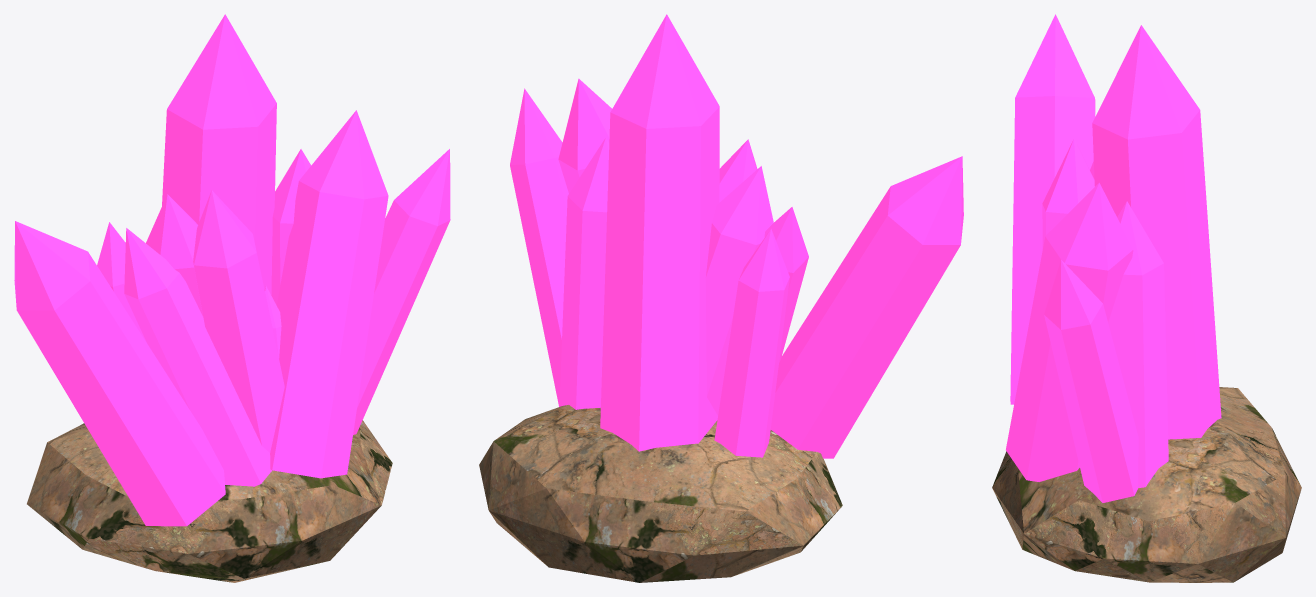
File: Crystal_Pink_S.fbx
The picture shows the model from 3 angles, left to right: view 1: azimuth 30°, elevation 25°; view 2: azimuth 150°, elevation 25°; view 3: azimuth 270°, elevation 25°; orthographic projection.
Visible parts, largest first — view 1: Crystal_Pink_S; view 2: Crystal_Pink_S; view 3: Crystal_Pink_S.
Boxes of the visible parts, <box> form: Crystal_Pink_S: <box>14,14,450,582</box>; Crystal_Pink_S: <box>479,14,963,582</box>; Crystal_Pink_S: <box>992,14,1301,582</box>.
Size of the model in its own units: 2.1 by 2.46 by 1.31.
